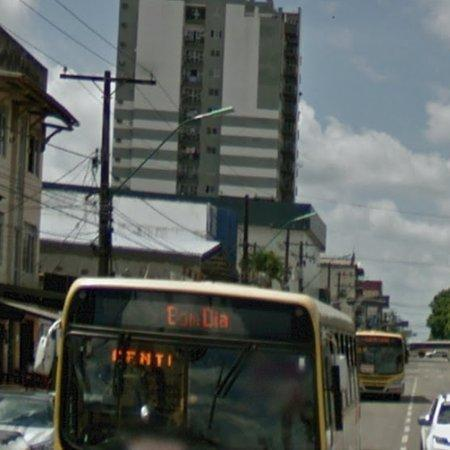buses: (34, 279, 360, 450), (359, 332, 408, 399)
